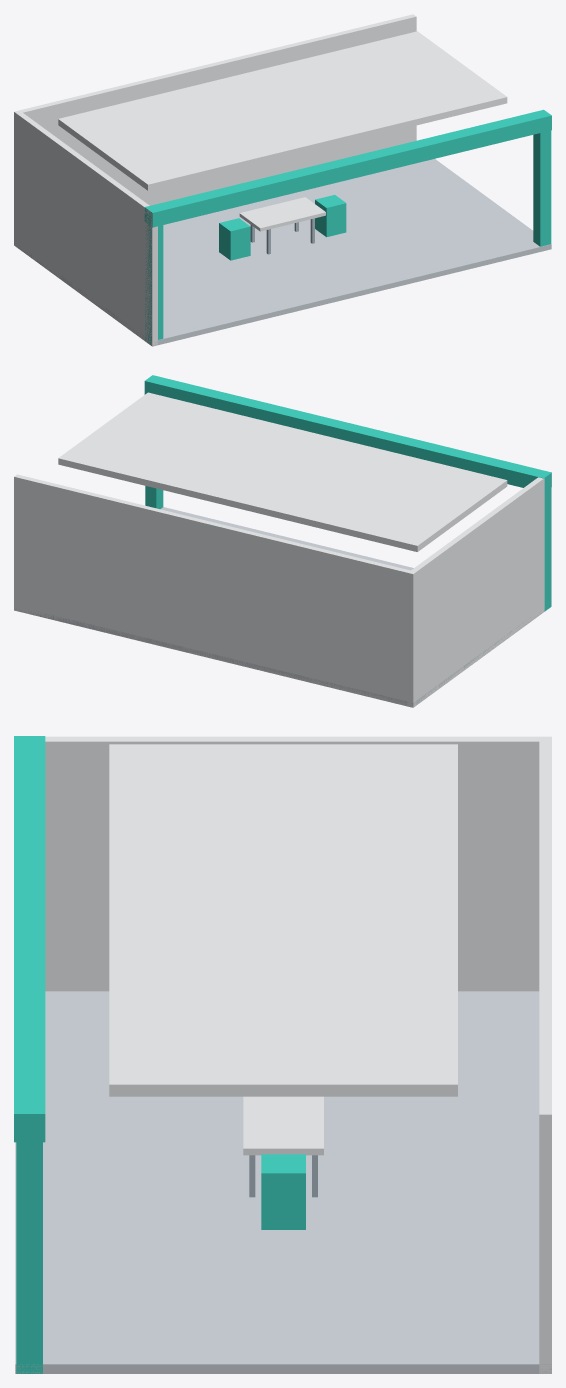
The picture shows the model from 3 angles, top to bottom: view 1: azimuth 30°, elevation 25°; view 2: azimuth 150°, elevation 25°; view 3: azimuth 270°, elevation 25°; orthographic projection. The views are drawn at different scales.
Visible parts, largest first — view 1: Exhibition Booth Concept; view 2: Exhibition Booth Concept; view 3: Exhibition Booth Concept.
Boxes of the visible parts, x1,y1,x2,y2 form: Exhibition Booth Concept: [14, 14, 551, 346]; Exhibition Booth Concept: [14, 375, 551, 707]; Exhibition Booth Concept: [14, 736, 551, 1373].
Bounding box in the file's own units: 10 × 3.34 × 6.02.
